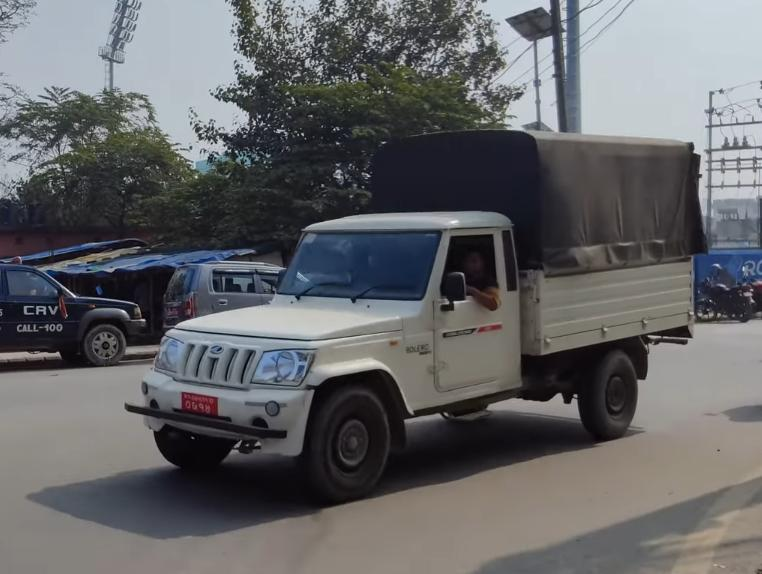SUV: (0, 234, 150, 379)
bike: (696, 259, 762, 327)
car: (154, 248, 294, 334)
transport_vehicle: (104, 119, 697, 500)
